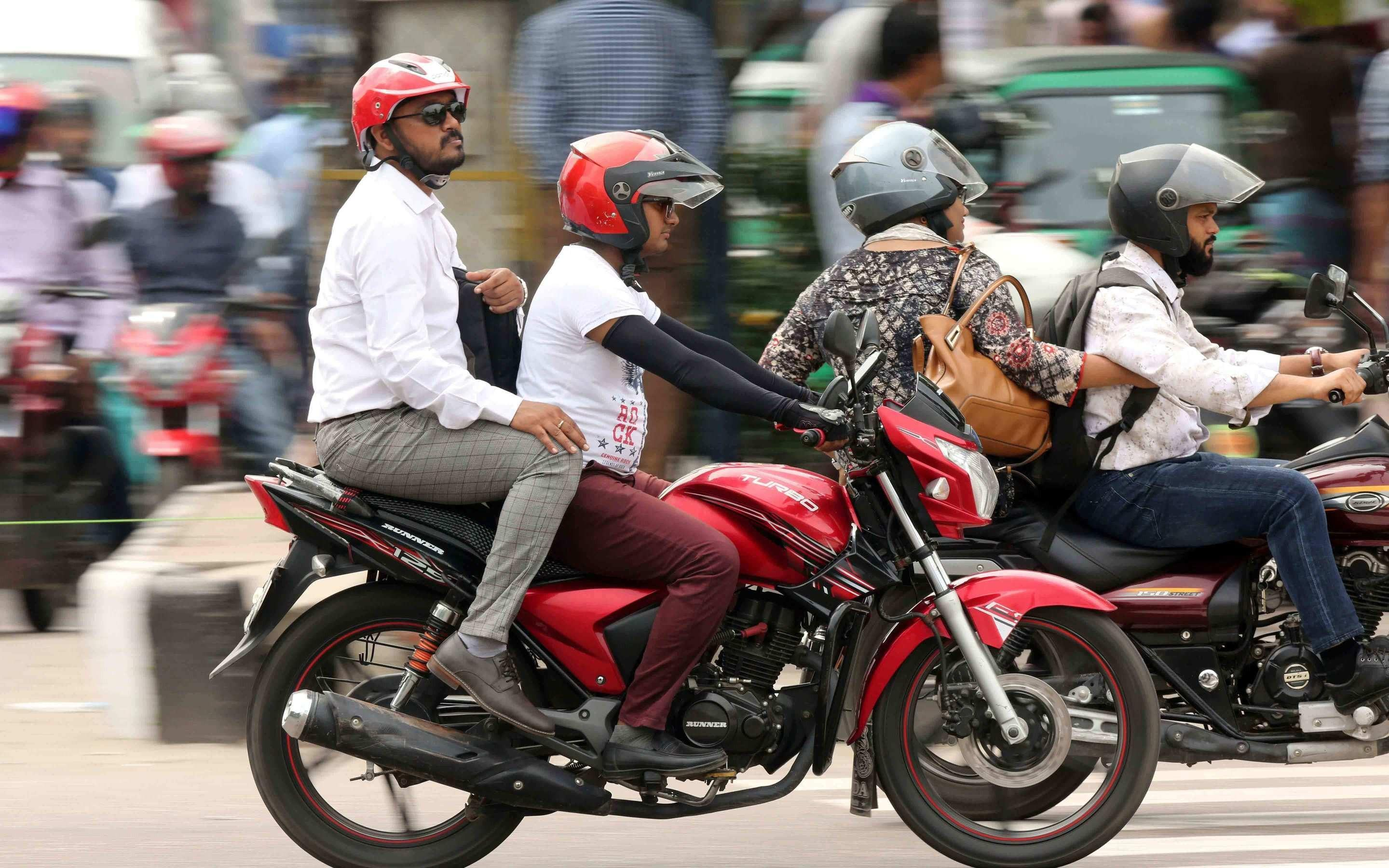helmet: (555, 128, 726, 275), (1105, 141, 1268, 290), (829, 119, 990, 246), (351, 51, 471, 191)
